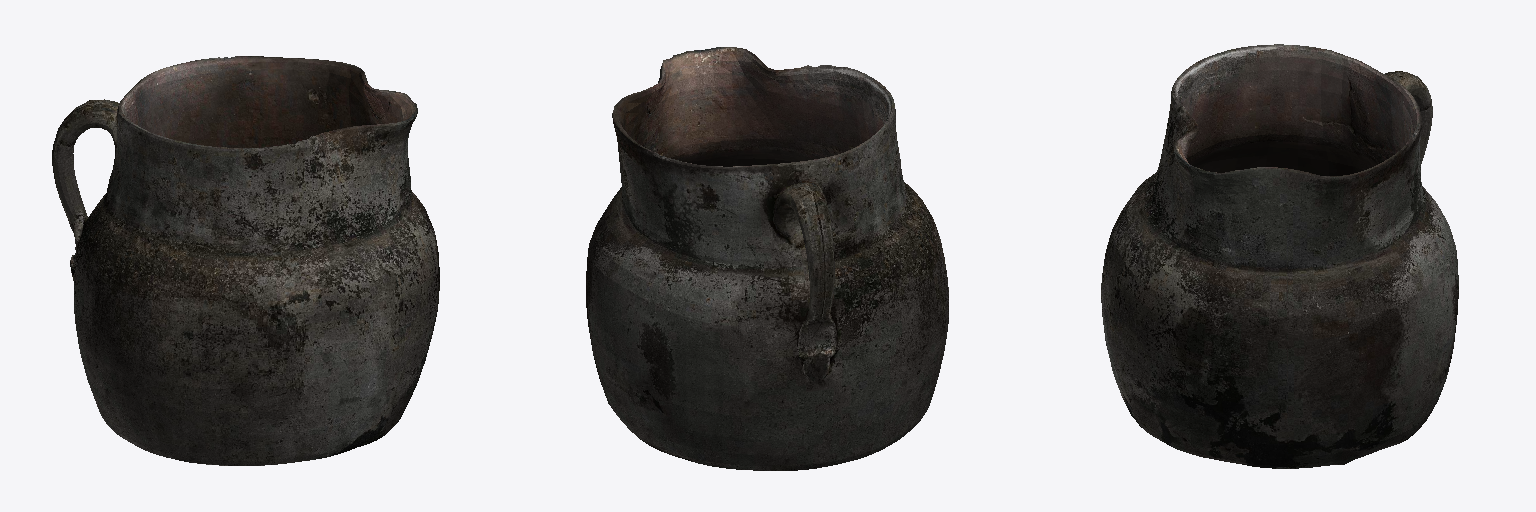
The picture shows the model from 3 angles: view 1: azimuth 30°, elevation 25°; view 2: azimuth 150°, elevation 25°; view 3: azimuth 270°, elevation 25°; orthographic projection.
Parts seen in each view (by area): view 1: qwerrrrr; view 2: qwerrrrr; view 3: qwerrrrr.
Part boxes in pixels (bbox=[...]): qwerrrrr: bbox=[52, 56, 439, 465]; qwerrrrr: bbox=[586, 47, 948, 470]; qwerrrrr: bbox=[1101, 44, 1458, 468].
Size of the model in its own units: 163 by 154 by 159.
Materials: 1 (1 with a texture image).